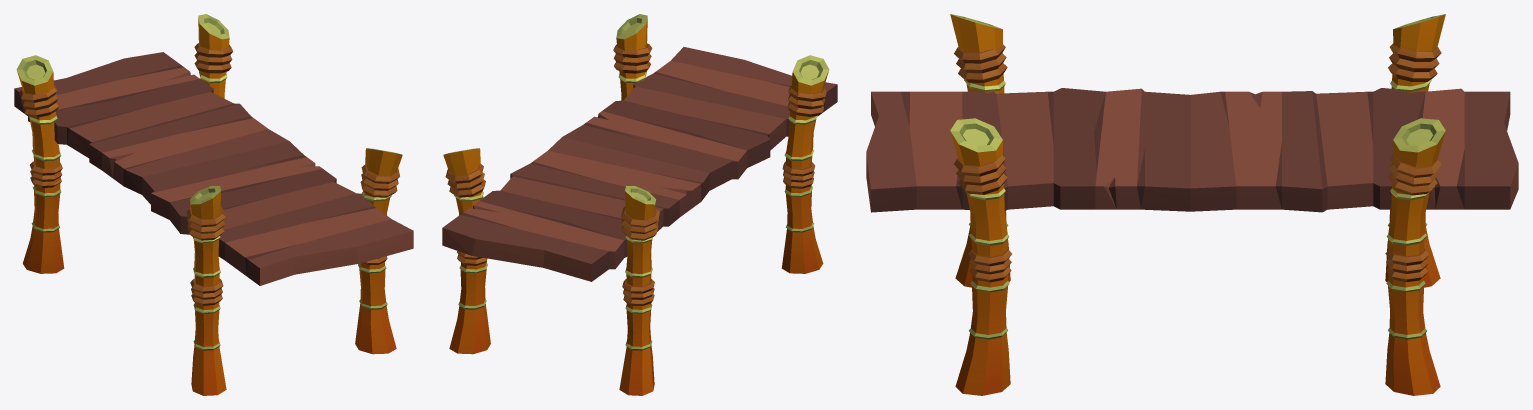
File: platform.glb
3 renders of one model, left to right at view 1: azimuth 30°, elevation 25°; view 2: azimuth 150°, elevation 25°; view 3: azimuth 270°, elevation 25°, orthographic. The views are drawn at different scales.
Parts seen in each view (by area): view 1: platform; view 2: platform; view 3: platform.
Boxes of the visible parts, <box> form: platform: <box>14,14,413,395</box>; platform: <box>442,14,837,395</box>; platform: <box>866,14,1518,395</box>.
Bounding box in the file's own units: 2.03 × 1.87 × 4.18.
2 materials, 2 textured.
